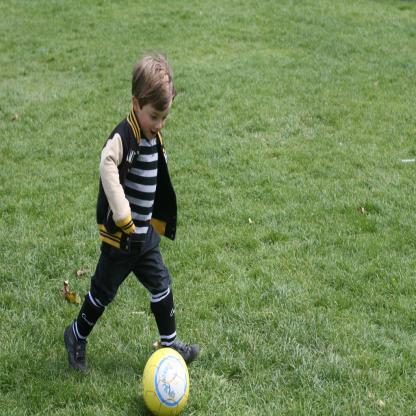Ball: (141, 348, 188, 415)
